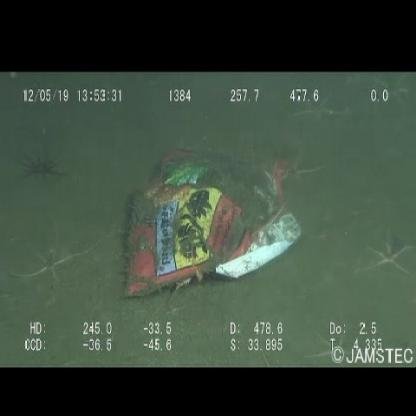Rác: (120, 143, 305, 306)
